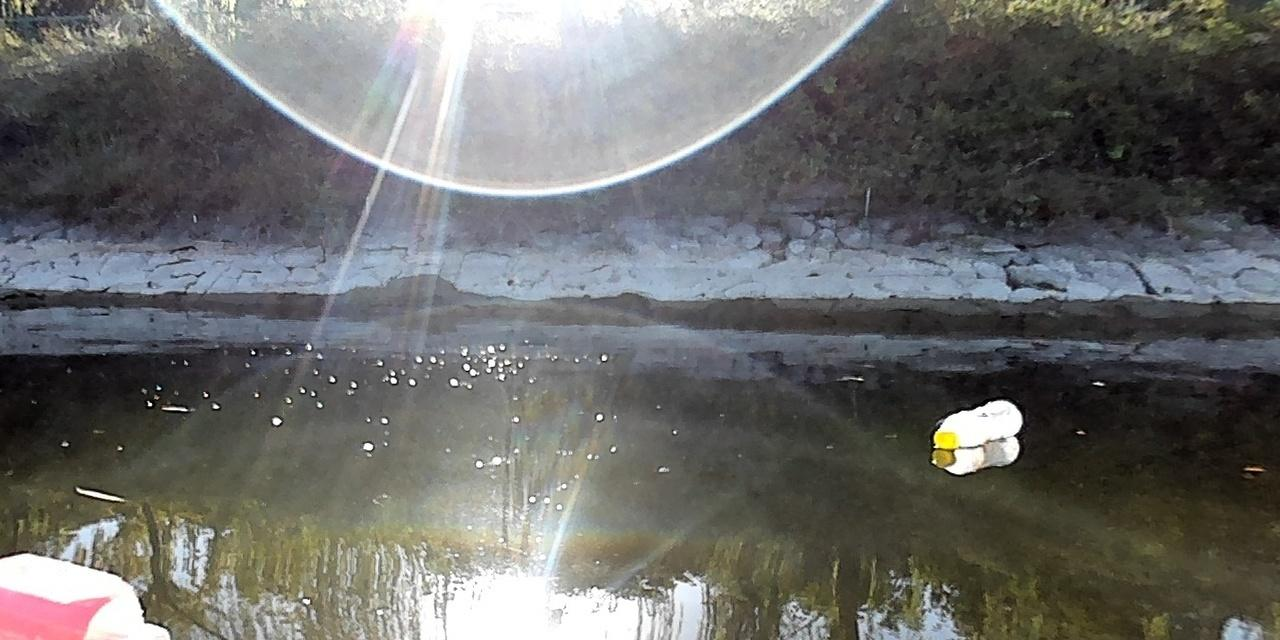bottle: (0, 544, 172, 638), (923, 392, 1026, 450)
